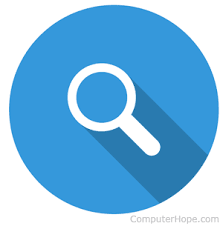searchIcon: (65, 60, 161, 158)
